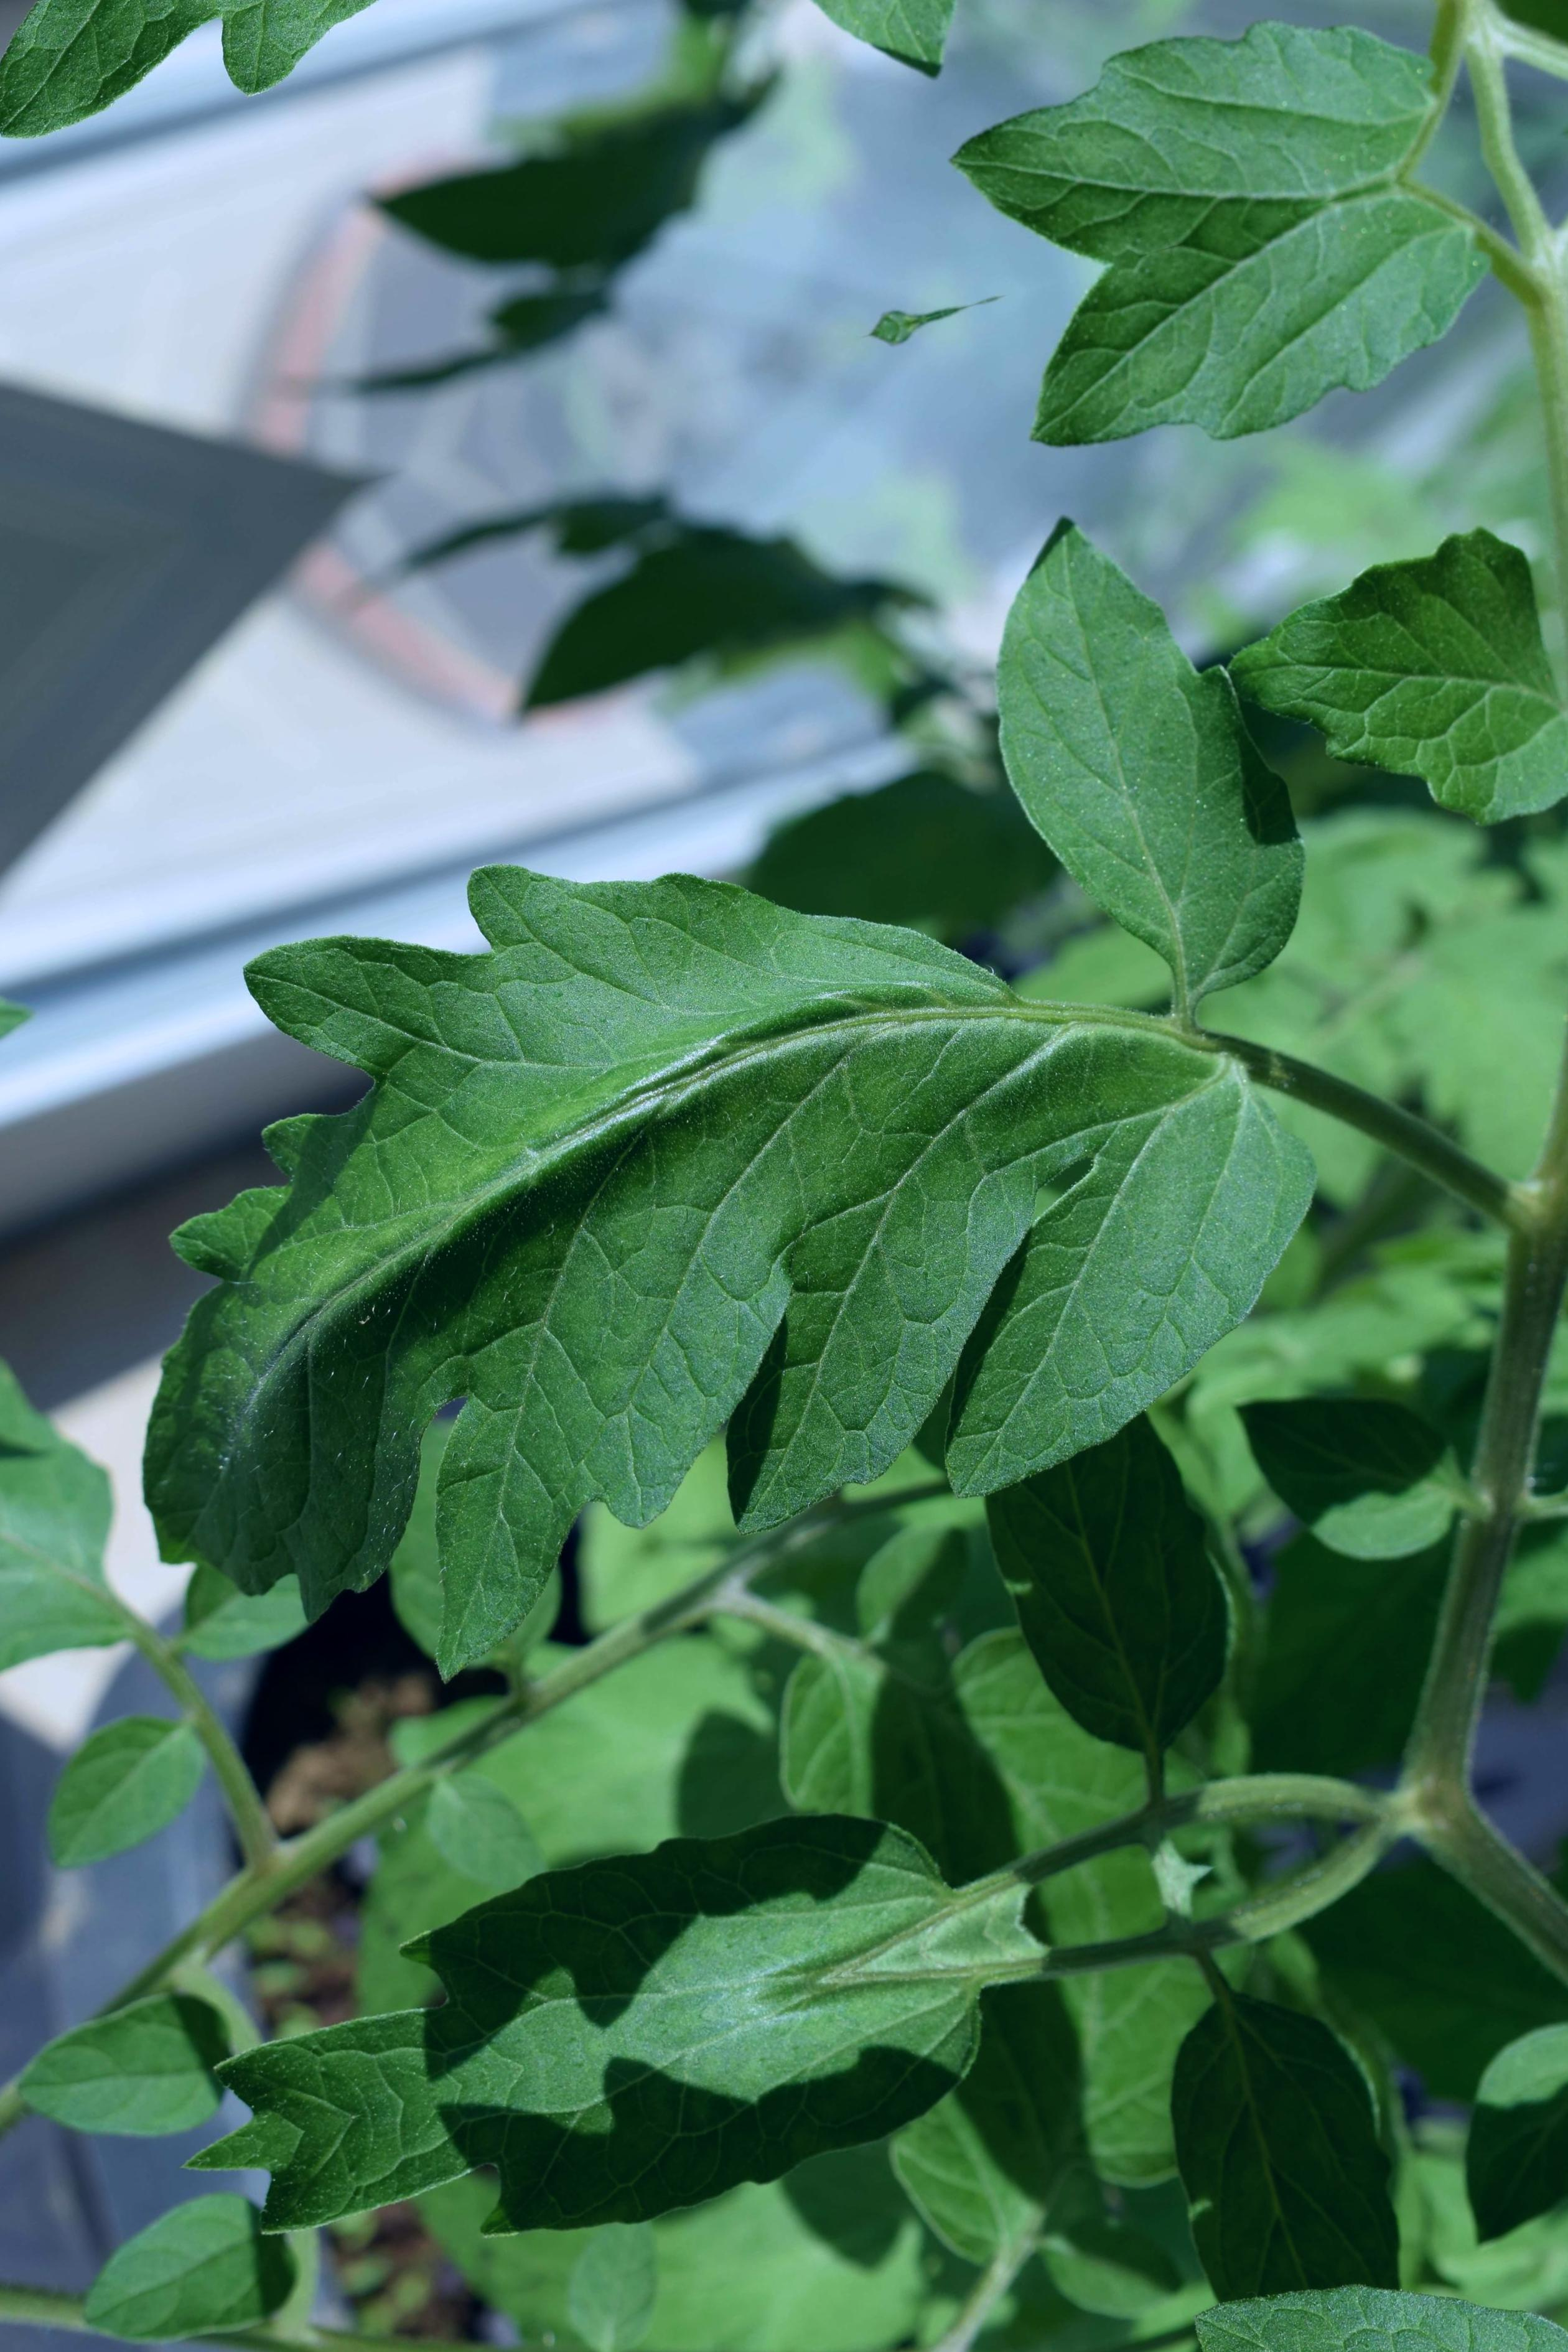Tomato leaf: (12, 709, 1452, 1832), (919, 504, 1358, 1083), (912, 170, 1526, 555), (1176, 488, 1568, 966)
